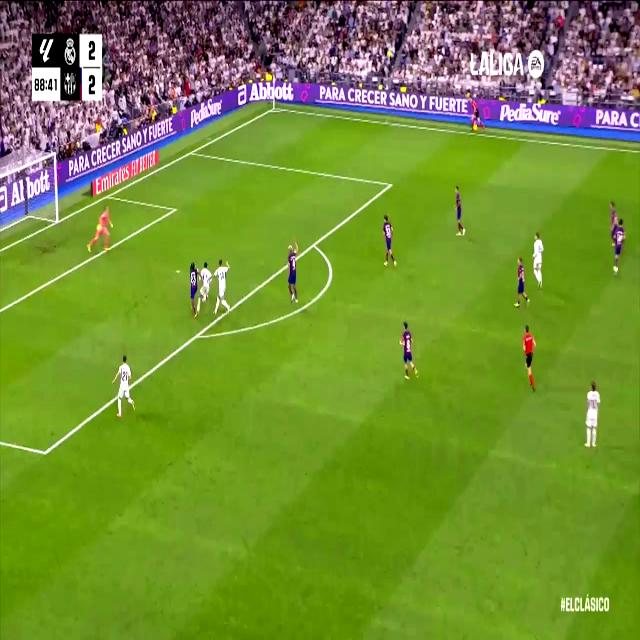bigarea_bottom_inner: (40, 439, 50, 465)
bigarea_top_inner: (387, 176, 393, 192)
bigarea_top_outter: (187, 145, 196, 158)
bottom_arc_area_intersection: (193, 325, 203, 344)
corner: (269, 103, 278, 114)
smallarea_top_inner: (171, 202, 177, 216)
smallarea_top_outter: (105, 191, 112, 201)
top_arc_area_intersection: (310, 234, 318, 252)
